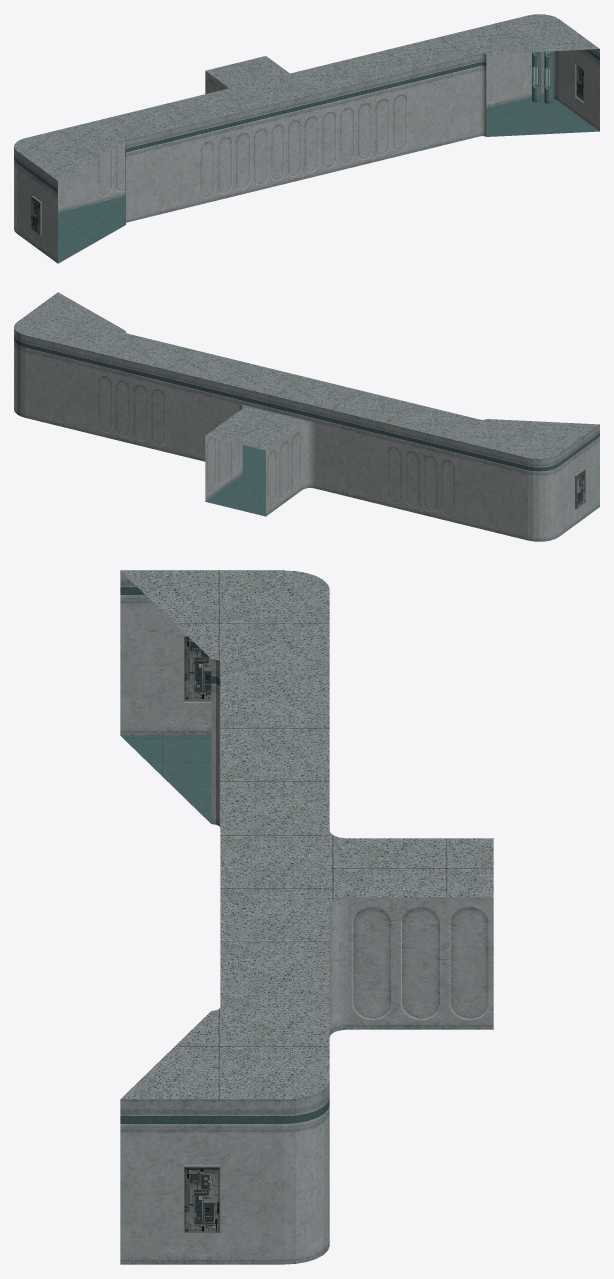
Rendered from mun_all_hospital_s02_r3_entryb_mesh.fbx.
The picture shows the model from 3 angles, top to bottom: view 1: azimuth 30°, elevation 25°; view 2: azimuth 150°, elevation 25°; view 3: azimuth 270°, elevation 25°; orthographic projection. The views are drawn at different scales.
Visible parts, largest first — view 1: mesh_node; view 2: mesh_node; view 3: mesh_node.
Part boxes in pixels (x1,y1,x2,y2): mesh_node: (14, 14, 599, 263); mesh_node: (14, 292, 599, 541); mesh_node: (120, 570, 493, 1264).
Size of the model in its own units: 34.55 by 5 by 10.25.
